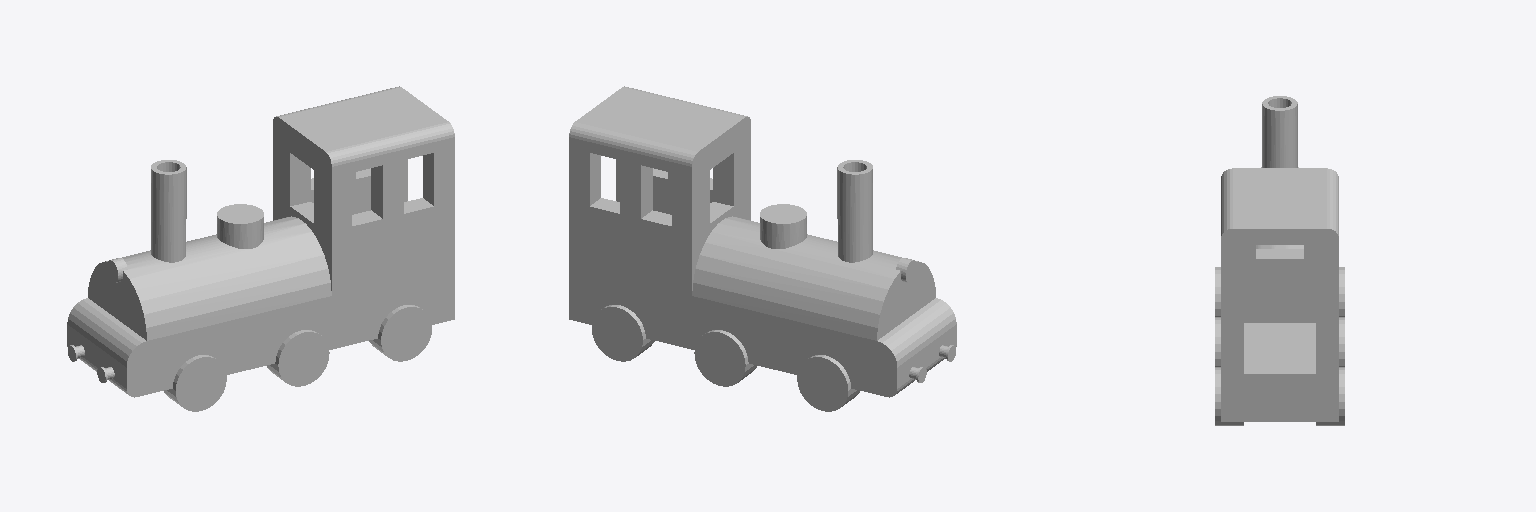
File: trainHead v3.obj
3 views of the same model, side by side, from view 1: azimuth 30°, elevation 25°; view 2: azimuth 150°, elevation 25°; view 3: azimuth 270°, elevation 25° (orthographic).
Parts seen in each view (by area): view 1: Body1; view 2: Body1; view 3: Body1.
Part boxes in pixels (bbox=[...]): Body1: bbox=[67, 86, 454, 411]; Body1: bbox=[569, 86, 956, 411]; Body1: bbox=[1215, 96, 1344, 425].
Bounding box in the file's own units: 33 × 20.5 × 11.